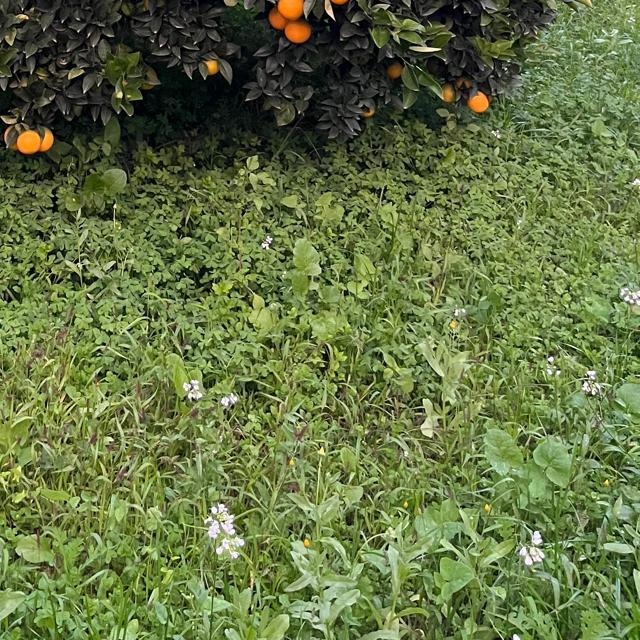orange: (281, 19, 311, 43), (2, 116, 22, 150), (15, 129, 41, 153), (35, 125, 57, 151), (275, 0, 305, 17), (138, 66, 158, 88), (201, 55, 221, 75), (468, 92, 488, 112), (266, 6, 284, 28), (385, 62, 403, 78), (438, 83, 454, 101), (362, 105, 376, 117), (329, 0, 353, 2), (329, 0, 351, 2)
